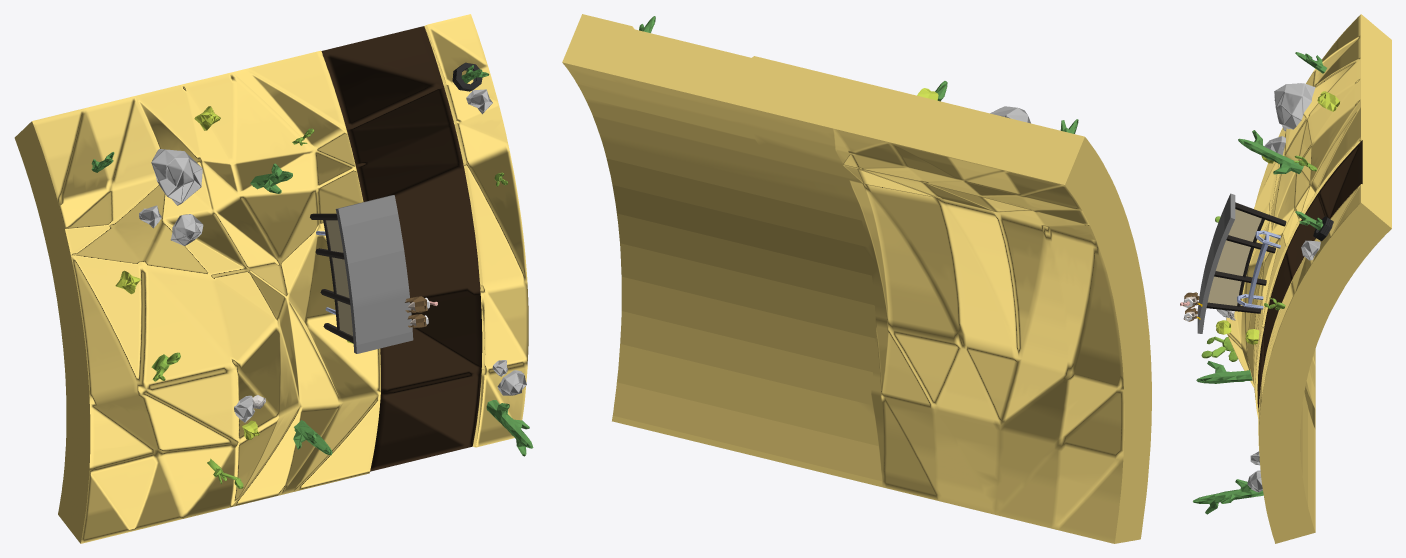
The model's file is desert_v3_opt.glb.
3 renders of one model, left to right at view 1: azimuth 30°, elevation 25°; view 2: azimuth 150°, elevation 25°; view 3: azimuth 270°, elevation 25°, orthographic. The views are drawn at different scales.
Parts seen in each view (by area): view 1: pCube1_desert_0; view 2: pCube1_desert_0; view 3: pCube1_desert_0.
Part boxes in pixels (left/top/right/bottom): pCube1_desert_0: left=14, top=14, right=533, bottom=543; pCube1_desert_0: left=562, top=14, right=1151, bottom=543; pCube1_desert_0: left=1180, top=14, right=1391, bottom=543.
Bounding box in the file's own units: 21 × 17.71 × 9.97.
